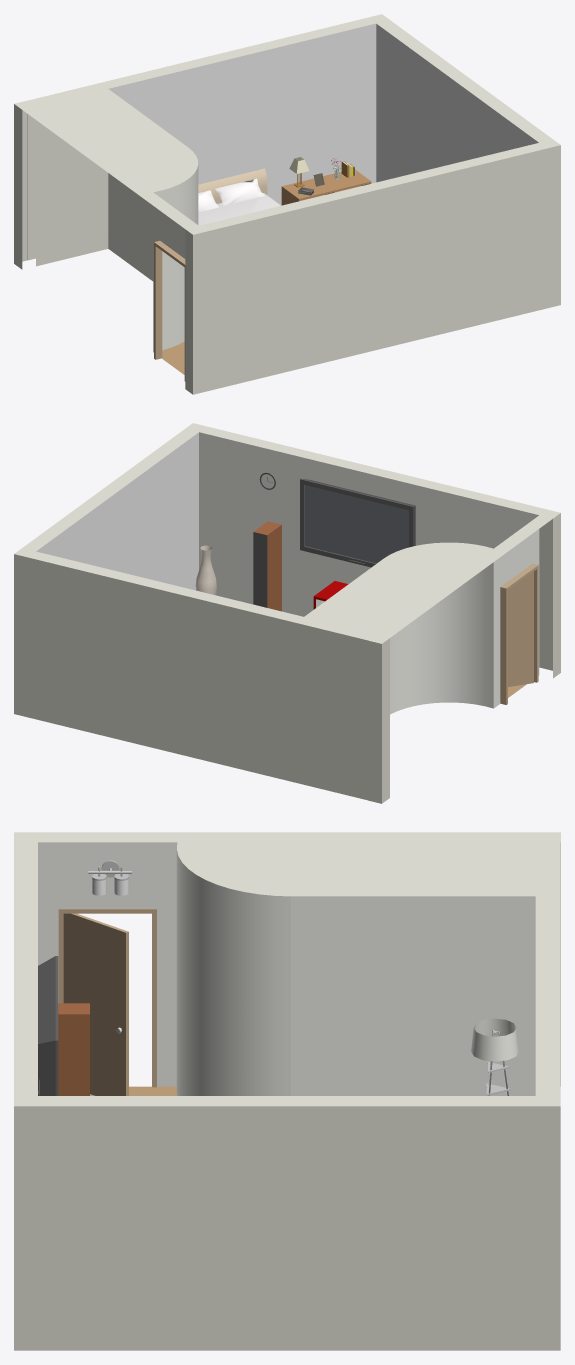
The model's file is map.fbx.
The picture shows the model from 3 angles, top to bottom: view 1: azimuth 30°, elevation 25°; view 2: azimuth 150°, elevation 25°; view 3: azimuth 270°, elevation 25°; orthographic projection. The views are drawn at different scales.
Parts seen in each view (by area): view 1: Design_room; view 2: Design_room; view 3: Design_room.
Boxes of the visible parts, <box> form: Design_room: <box>14,14,560,394</box>; Design_room: <box>14,423,560,803</box>; Design_room: <box>14,832,560,1350</box>.
Size of the model in its own units: 42850 by 17825 by 36125.
